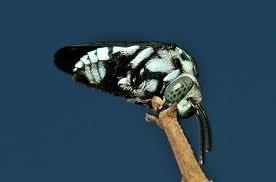Thyreus: (51, 35, 231, 165)
